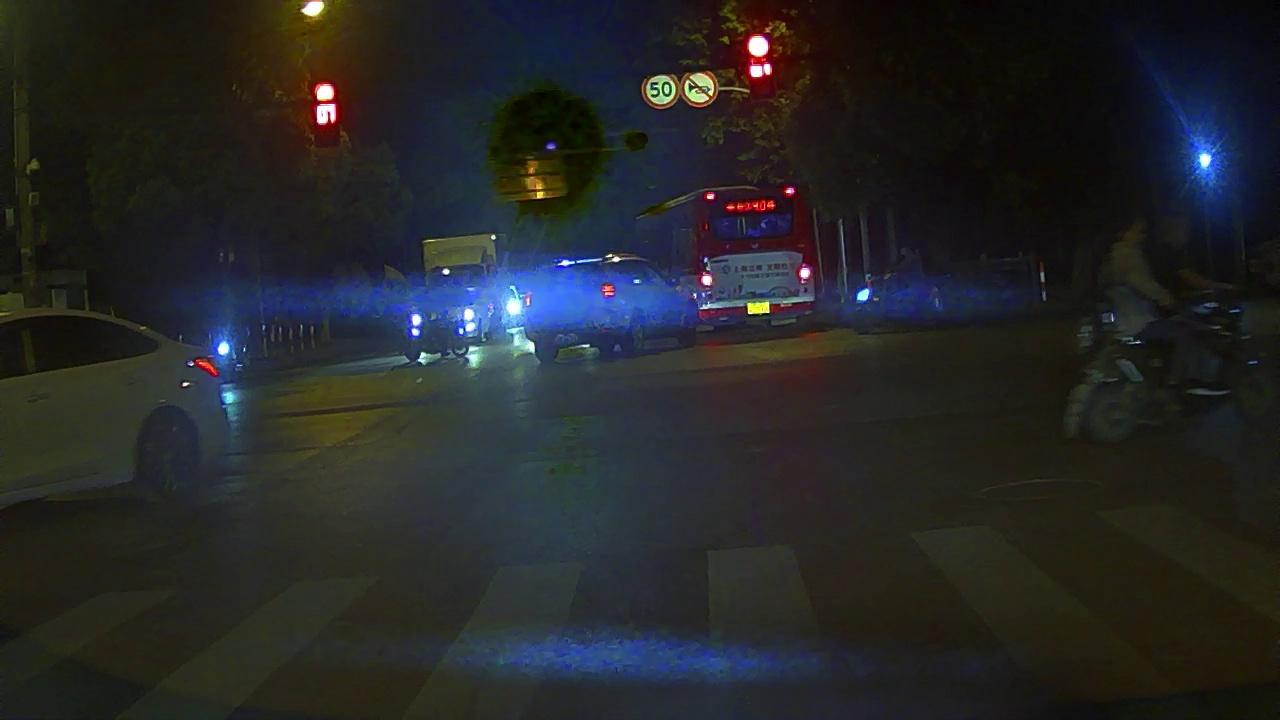traffic_light: (310, 78, 342, 129), (745, 32, 777, 81)
